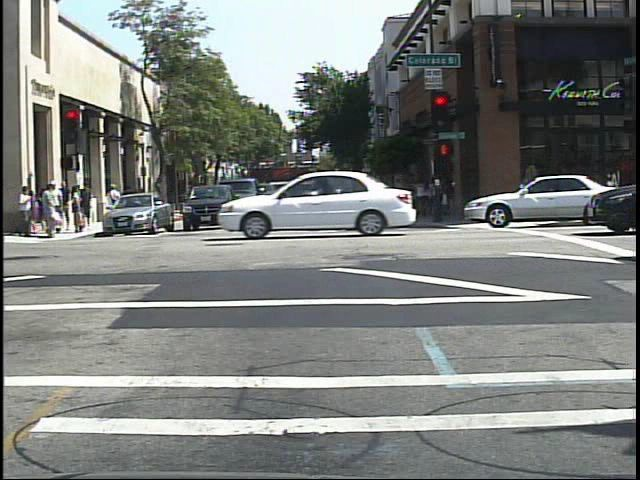person: (104, 179, 123, 226)
